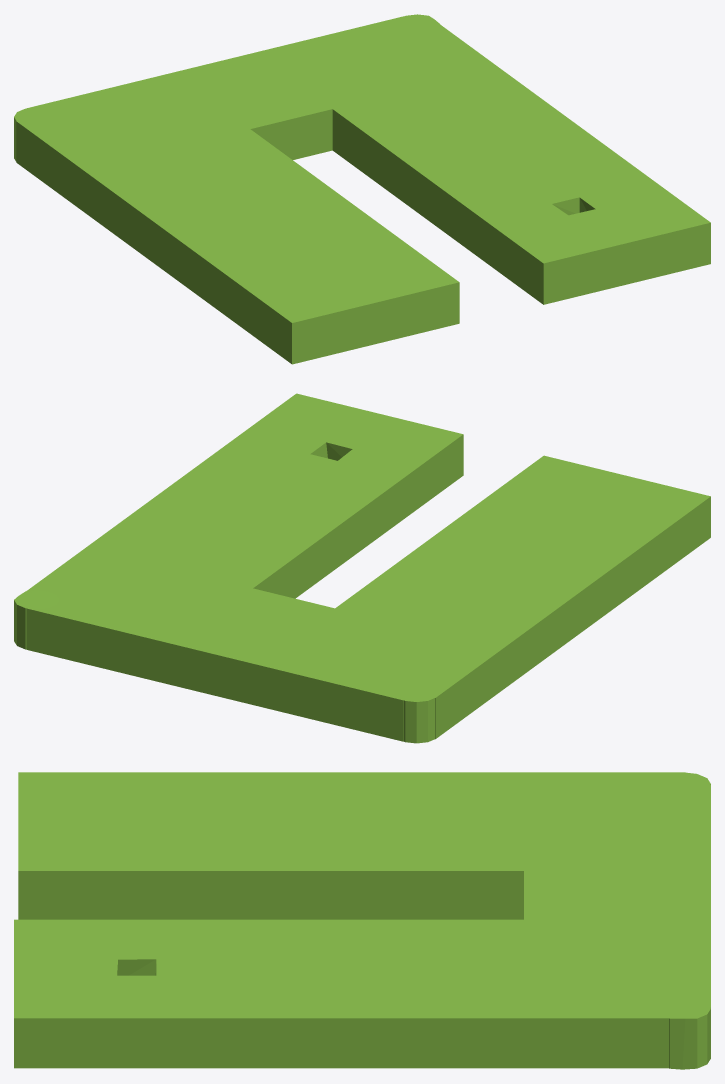
3 views of the same model, one above another, from view 1: azimuth 30°, elevation 25°; view 2: azimuth 150°, elevation 25°; view 3: azimuth 270°, elevation 25° (orthographic). The views are drawn at different scales.
Parts seen in each view (by area): view 1: mesh_1414712935, mesh_1857708213, mesh_684364895, mesh_308545719, mesh_2005251453; view 2: mesh_1857708213, mesh_1414712935, mesh_684364895, mesh_308545719, mesh_881132206, mesh_2005251453; view 3: mesh_1857708213, mesh_1414712935, mesh_684364895, mesh_308545719, mesh_2005251453.
Boxes of the visible parts, left/top/right/bottom form: mesh_1414712935: left=16, top=80, right=459, bottom=364; mesh_1857708213: left=268, top=24, right=710, bottom=304; mesh_684364895: left=27, top=57, right=313, bottom=164; mesh_308545719: left=237, top=16, right=404, bottom=159; mesh_2005251453: left=394, top=14, right=439, bottom=33; mesh_1857708213: left=26, top=393, right=463, bottom=635; mesh_1414712935: left=270, top=455, right=710, bottom=739; mesh_684364895: left=194, top=593, right=480, bottom=741; mesh_308545719: left=27, top=588, right=270, bottom=700; mesh_881132206: left=404, top=693, right=434, bottom=743; mesh_2005251453: left=14, top=590, right=59, bottom=649; mesh_1857708213: left=14, top=919, right=681, bottom=1068; mesh_1414712935: left=18, top=772, right=685, bottom=919; mesh_684364895: left=524, top=785, right=710, bottom=908; mesh_308545719: left=524, top=909, right=710, bottom=1007; mesh_2005251453: left=656, top=997, right=710, bottom=1069.
Bounding box in the file's own units: 137 × 13.26 × 164.
